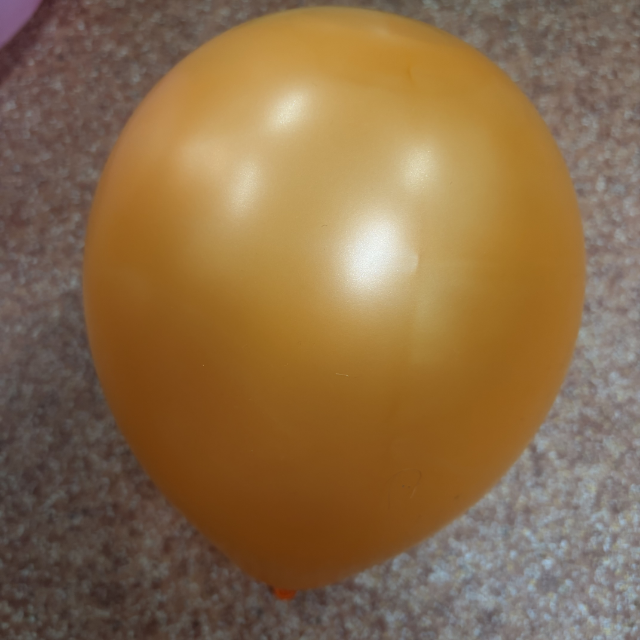balloon: (82, 6, 588, 600)
